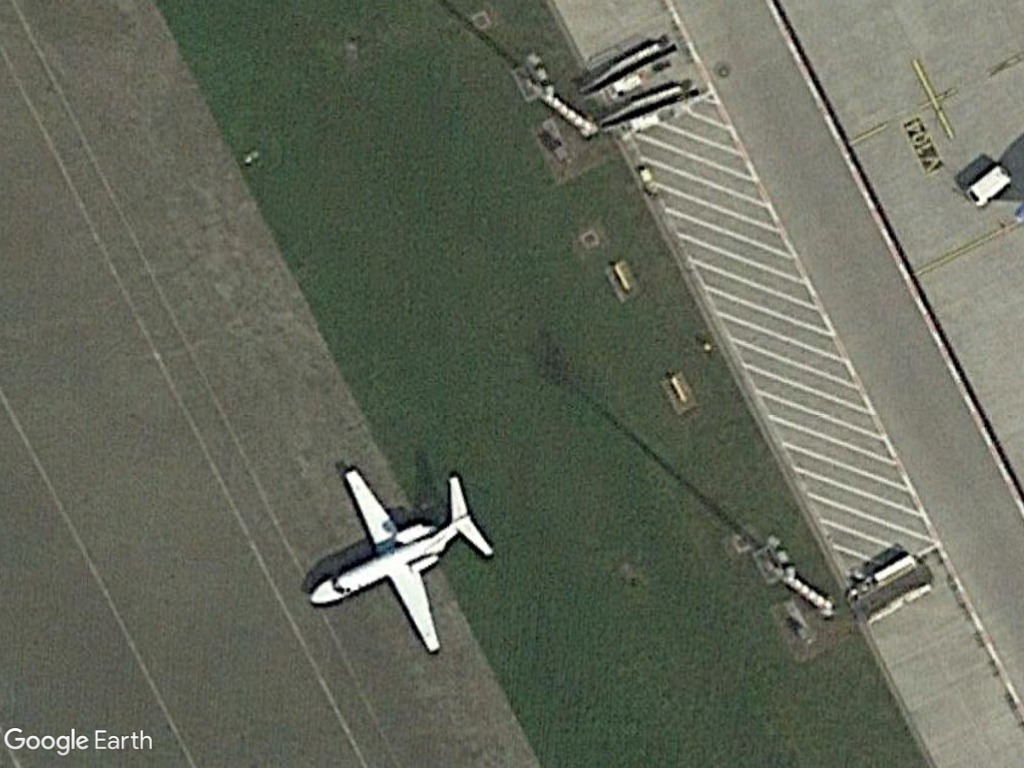chartered: (299, 449, 499, 662)
